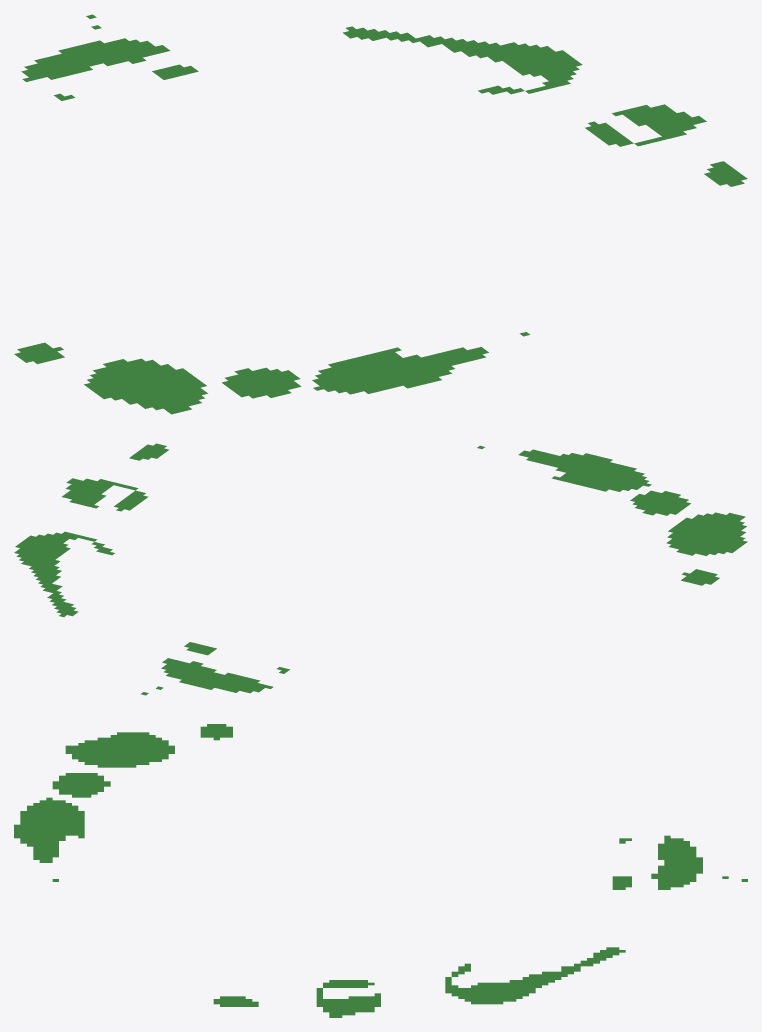
Rendered from Isl-atoll1-TreesArea.fbx.
3 renders of one model, top to bottom at view 1: azimuth 30°, elevation 25°; view 2: azimuth 150°, elevation 25°; view 3: azimuth 270°, elevation 25°, orthographic. The views are drawn at different scales.
Visible parts, largest first — view 1: Isl-atoll1-TreesArea; view 2: Isl-atoll1-TreesArea; view 3: Isl-atoll1-TreesArea.
Part boxes in pixels (x1,y1,x2,y2): Isl-atoll1-TreesArea: (14,14,747,414); Isl-atoll1-TreesArea: (14,443,747,695); Isl-atoll1-TreesArea: (14,724,747,1017).
Bounding box in the file's own units: 108 × 0 × 114.
